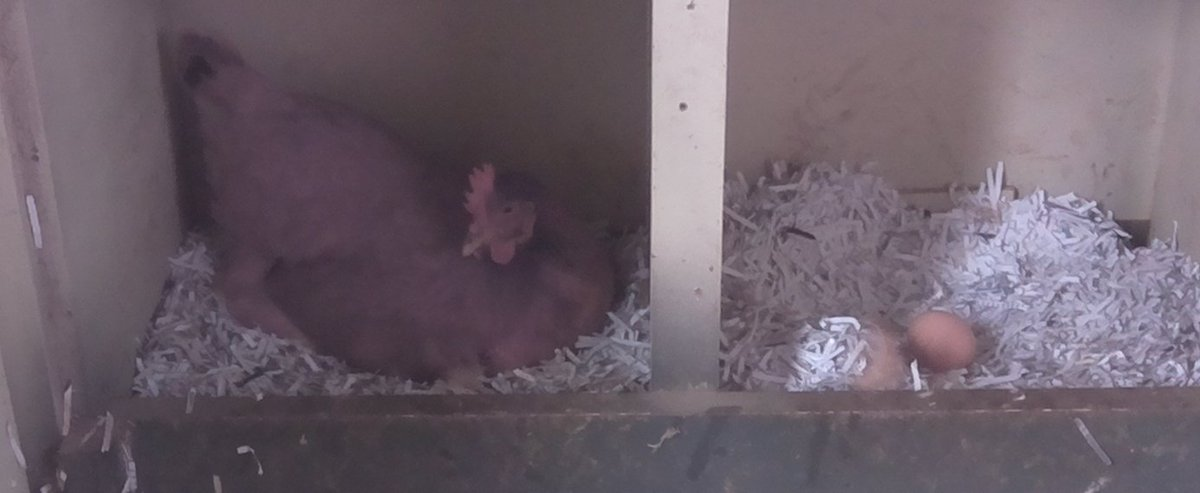egg: (905, 309, 980, 374)
hen: (177, 35, 623, 375)
